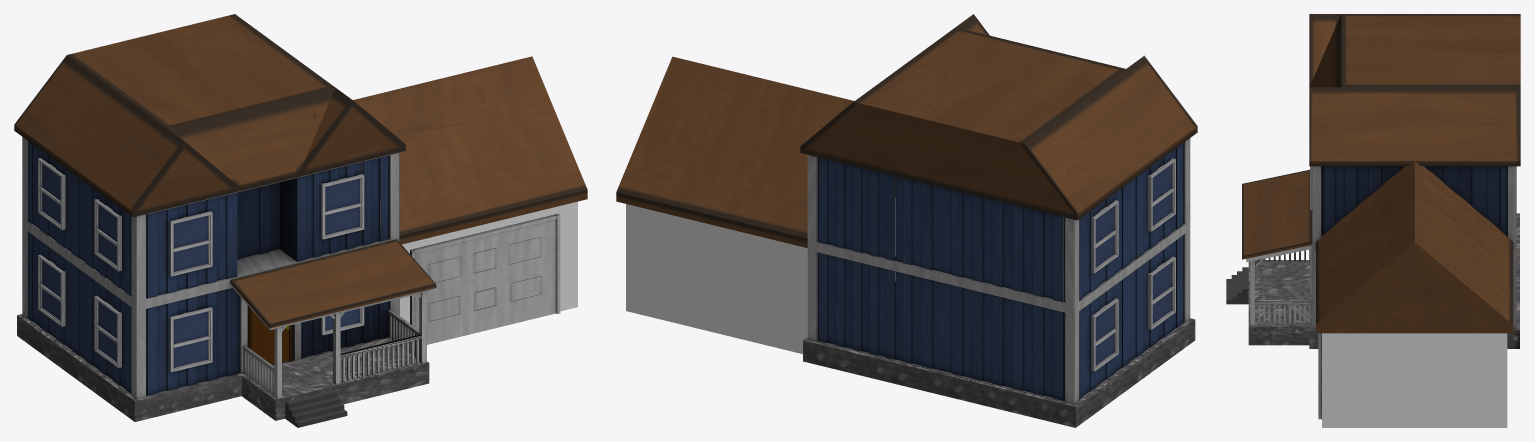
File: House.fbx
3 views of the same model, side by side, from view 1: azimuth 30°, elevation 25°; view 2: azimuth 150°, elevation 25°; view 3: azimuth 270°, elevation 25° (orthographic). The views are drawn at different scales.
Parts seen in each view (by area): view 1: Cube.068, Cube.027, Cube.076, Cube.077, Cube.074, Cube.049, Cube.070, Cube.056, Cube.075, Cube.069, Cube.082, Cube.083 (+7 smaller); view 2: Cube.027, Cube.068, Cube.076, Cube.075, Cube.070, Cube.074, Cube.080, Cube.078, Cube.079, Cube.081; view 3: Cube.068, Cube.076, Cube.075, Cube.027, Cube.074, Cube.049, Cube.070, Cube.056, Cube.073, Cube.077, Cube.051.
Boxes of the visible parts, x1,y1,x2,y2 form: Cube.068: [14, 14, 405, 217]; Cube.027: [28, 141, 389, 395]; Cube.076: [346, 56, 587, 244]; Cube.077: [410, 213, 560, 344]; Cube.074: [17, 314, 429, 421]; Cube.049: [230, 239, 436, 328]; Cube.070: [22, 137, 399, 399]; Cube.056: [240, 292, 426, 398]; Cube.075: [399, 201, 577, 323]; Cube.069: [166, 307, 212, 372]; Cube.082: [166, 211, 212, 276]; Cube.083: [321, 173, 364, 239]; Cube.027: [818, 143, 1183, 400]; Cube.068: [800, 14, 1197, 220]; Cube.076: [616, 56, 895, 247]; Cube.075: [626, 198, 895, 353]; Cube.070: [807, 138, 1190, 404]; Cube.074: [803, 318, 1195, 427]; Cube.080: [1147, 158, 1175, 231]; Cube.078: [1147, 256, 1175, 329]; Cube.079: [1091, 298, 1118, 371]; Cube.081: [1091, 200, 1118, 273]; Cube.068: [1309, 14, 1520, 166]; Cube.076: [1316, 161, 1513, 333]; Cube.075: [1322, 333, 1507, 427]; Cube.027: [1321, 166, 1507, 236]; Cube.074: [1248, 213, 1519, 348]; Cube.049: [1242, 169, 1312, 259]; Cube.070: [1312, 166, 1516, 329]; Cube.056: [1250, 249, 1312, 326]; Cube.073: [1226, 267, 1248, 304]; Cube.077: [1318, 333, 1321, 419]; Cube.051: [1246, 245, 1312, 262].
Bounding box in the file's own units: 6522 × 3648 × 4062.
